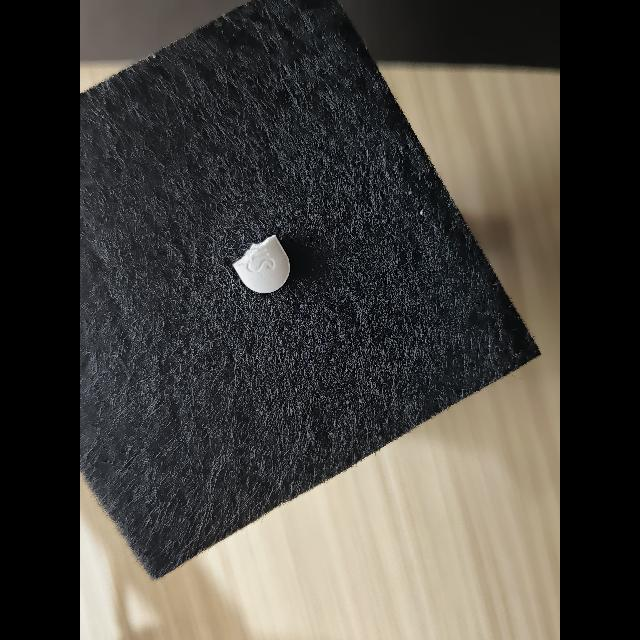Chipped Pill: (233, 235, 290, 293)
